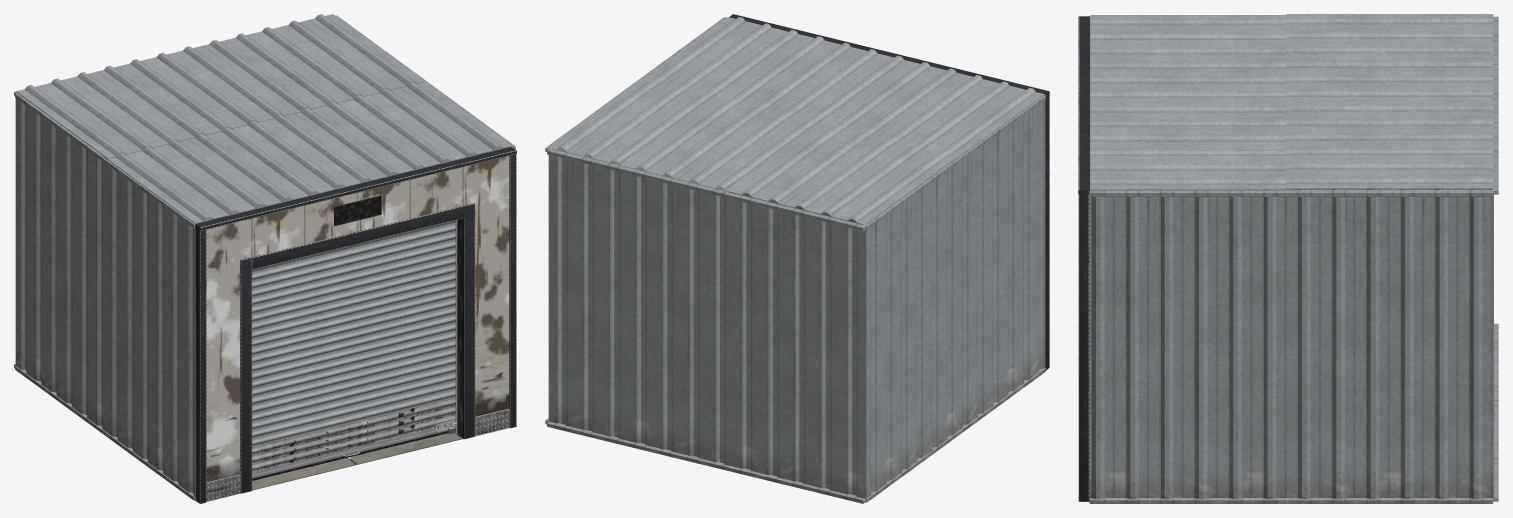
The model's file is StorageUnit_M.fbx.
The picture shows the model from 3 angles, left to right: view 1: azimuth 30°, elevation 25°; view 2: azimuth 150°, elevation 25°; view 3: azimuth 270°, elevation 25°; orthographic projection. The views are drawn at different scales.
Visible parts, largest first — view 1: Top, WallLeft, CurtainClosed, Facade, Frame, Floor, BottomBar, NumberPlate, WallRight; view 2: WallBack, Top, WallLeft, Frame, WallRight; view 3: WallRight, Top, Frame, WallBack.
Boxes of the visible parts, x1,y1,x2,y2 form: Top: [16, 14, 511, 223]; WallLeft: [15, 93, 195, 500]; CurtainClosed: [252, 220, 455, 471]; Facade: [206, 156, 509, 482]; Frame: [195, 147, 516, 503]; Floor: [196, 431, 462, 502]; BottomBar: [252, 419, 455, 480]; NumberPlate: [334, 195, 381, 226]; WallRight: [333, 15, 515, 190]; WallBack: [547, 148, 865, 503]; Top: [549, 17, 1044, 224]; WallLeft: [863, 95, 1045, 502]; Frame: [729, 14, 1049, 369]; WallRight: [545, 17, 728, 424]; WallRight: [1089, 190, 1493, 503]; Top: [1090, 14, 1493, 190]; Frame: [1078, 16, 1090, 501]; WallBack: [1489, 16, 1498, 501].
Size of the model in its own units: 12.2 by 10.23 by 12.23.
5 materials, 5 textured.
